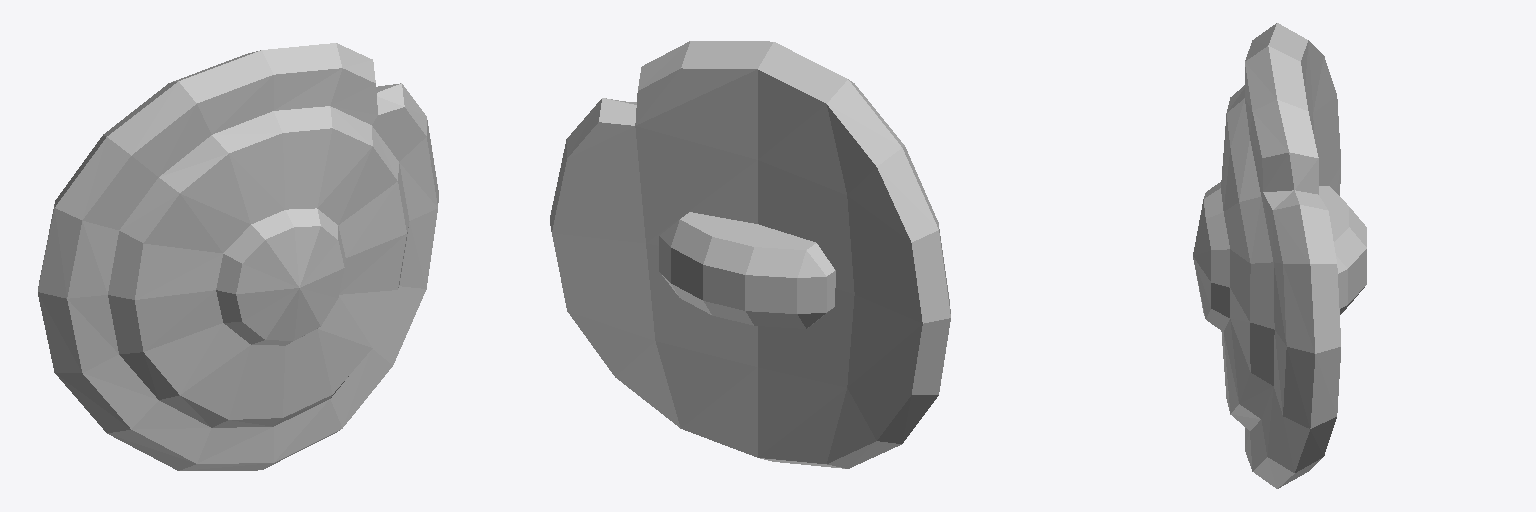
Rendered from shield_round_color.obj.
3 renders of one model, left to right at view 1: azimuth 30°, elevation 25°; view 2: azimuth 150°, elevation 25°; view 3: azimuth 270°, elevation 25°, orthographic.
Parts seen in each view (by area): view 1: shield_round_color; view 2: shield_round_color; view 3: shield_round_color.
Boxes of the visible parts, x1=… form: shield_round_color: x1=38, y1=43, x2=438, y2=470; shield_round_color: x1=550, y1=41, x2=950, y2=468; shield_round_color: x1=1193, y1=23, x2=1366, y2=488.
Bounding box in the file's own units: 0.8826 × 0.8826 × 0.3319.